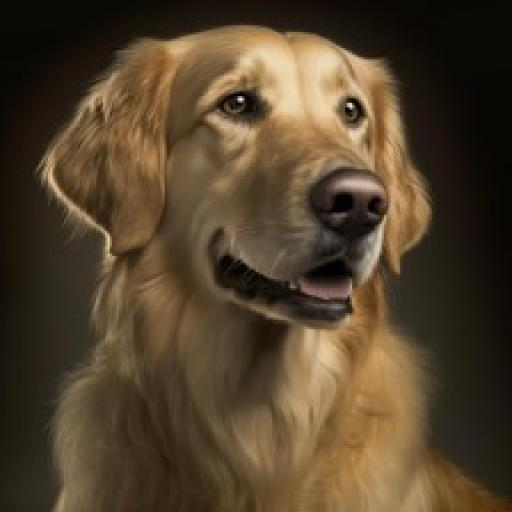dog: (23, 20, 510, 512)
